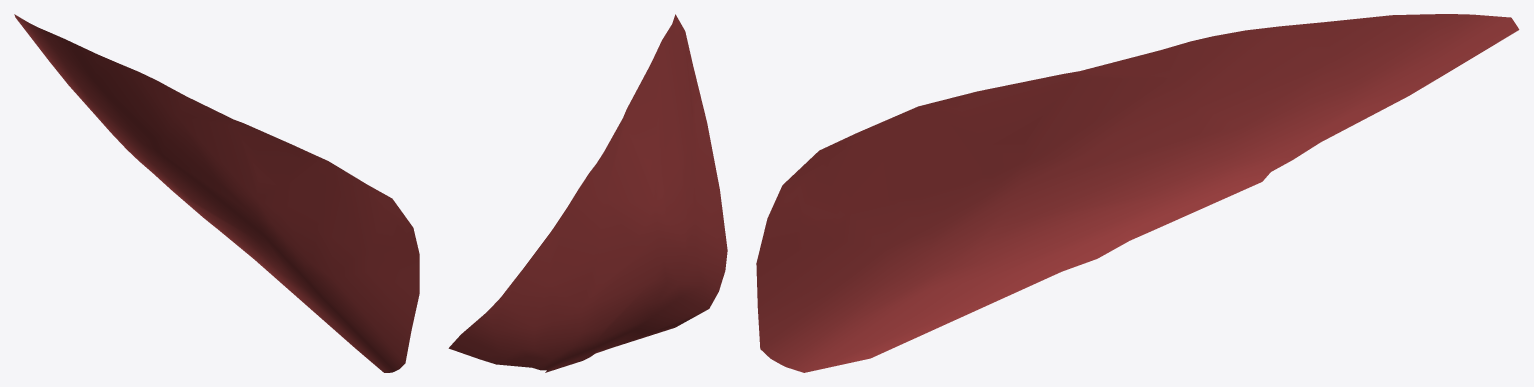
Rendered from external-abdominal-oblique-muscle-o1r.glb.
The picture shows the model from 3 angles, left to right: view 1: azimuth 30°, elevation 25°; view 2: azimuth 150°, elevation 25°; view 3: azimuth 270°, elevation 25°; orthographic projection. The views are drawn at different scales.
Parts seen in each view (by area): view 1: External abdominal oblique muscle.o1r; view 2: External abdominal oblique muscle.o1r; view 3: External abdominal oblique muscle.o1r.
Part boxes in pixels (left/top/right/bottom): External abdominal oblique muscle.o1r: left=14, top=14, right=419, bottom=372; External abdominal oblique muscle.o1r: left=448, top=14, right=727, bottom=372; External abdominal oblique muscle.o1r: left=756, top=14, right=1519, bottom=372.
Bounding box in the file's own units: 0.00788 × 0.0113 × 0.0273.
